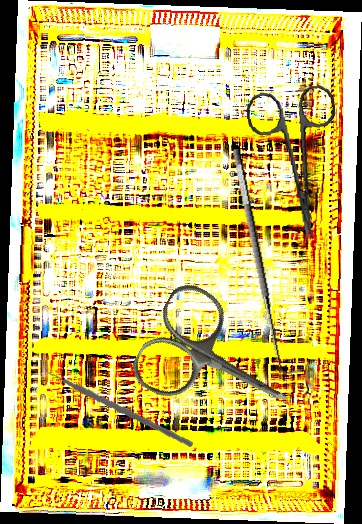Chopper: (40, 343, 194, 460)
Hook Surgical: (228, 144, 303, 380)
Iris Scissors: (125, 277, 313, 450), (244, 83, 351, 247)
